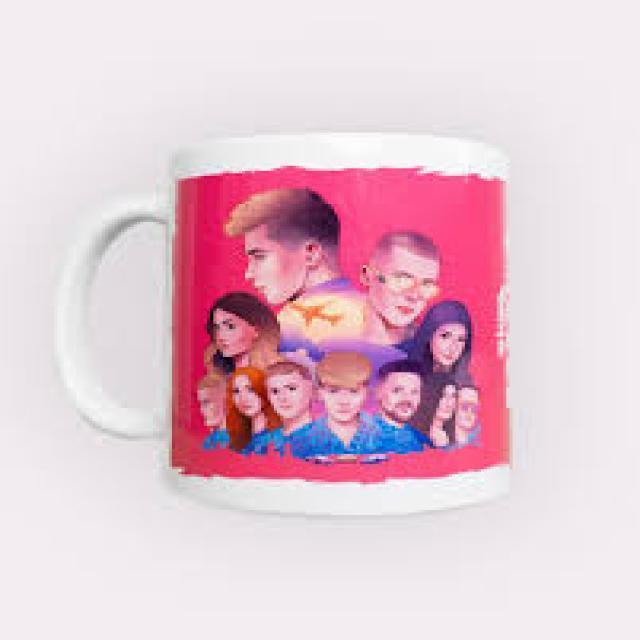taza: (59, 137, 514, 509)
